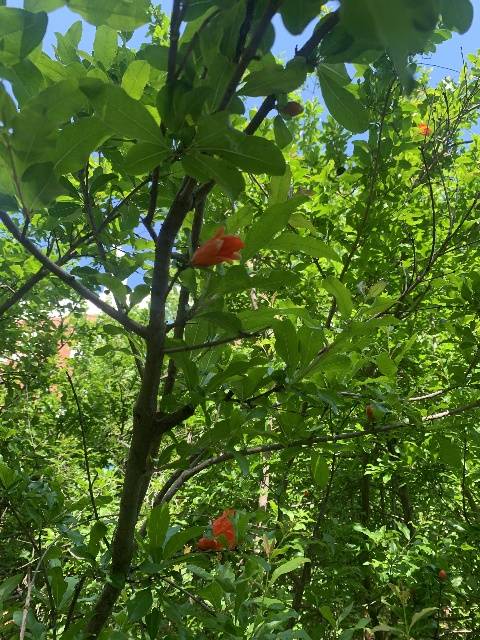bud: (366, 404, 375, 422), (438, 570, 446, 580)
flower: (191, 225, 244, 267), (197, 508, 243, 550), (417, 123, 430, 135)
